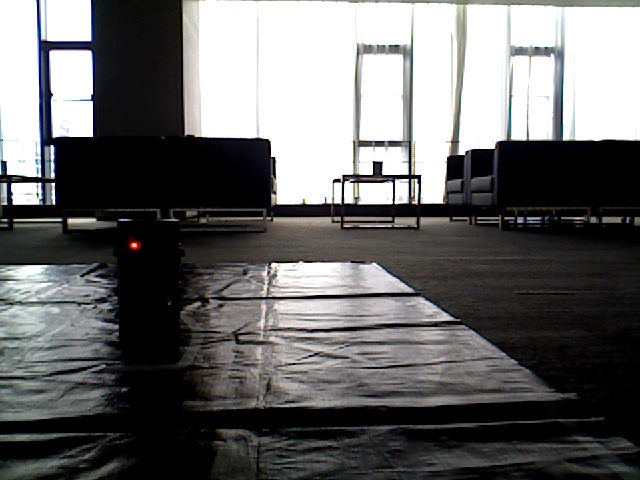red: (117, 219, 164, 320)
